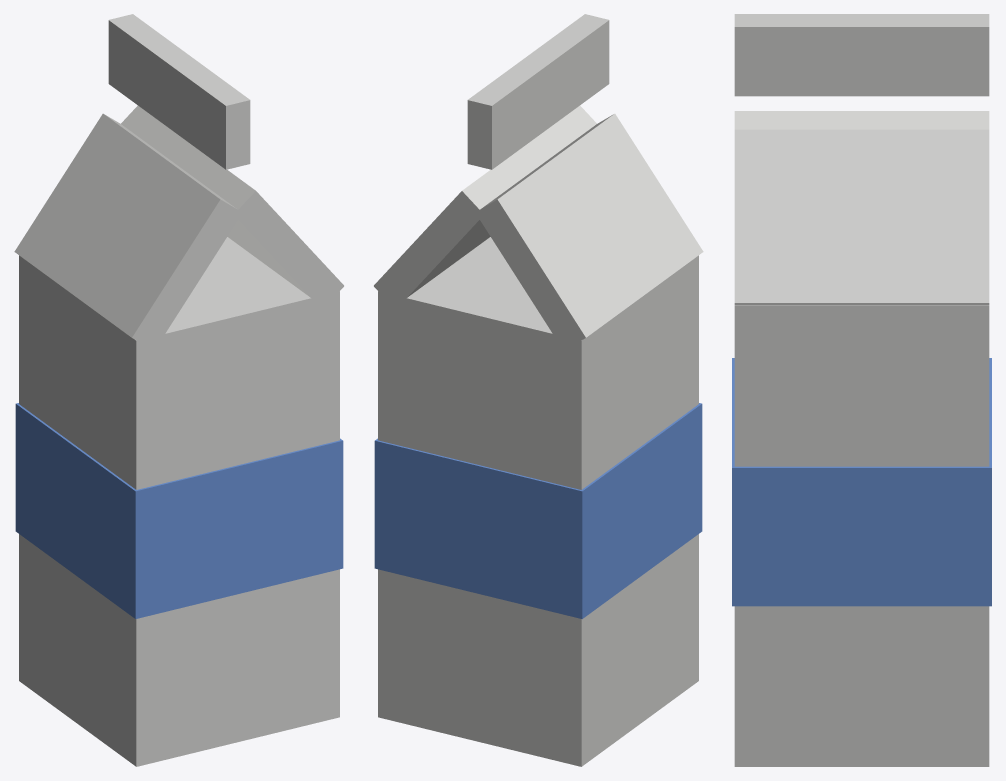
The model's file is dm_milkcarton.glb.
3 views of the same model, side by side, from view 1: azimuth 30°, elevation 25°; view 2: azimuth 150°, elevation 25°; view 3: azimuth 270°, elevation 25° (orthographic). The views are drawn at different scales.
Parts seen in each view (by area): view 1: dm_milkcarton; view 2: dm_milkcarton; view 3: dm_milkcarton.
Part boxes in pixels (box(x1,y1,x2,y2)): dm_milkcarton: box(14, 14, 343, 766); dm_milkcarton: box(374, 14, 703, 766); dm_milkcarton: box(732, 14, 991, 766).
Size of the model in its own units: 0.1045 by 0.3 by 0.102.
